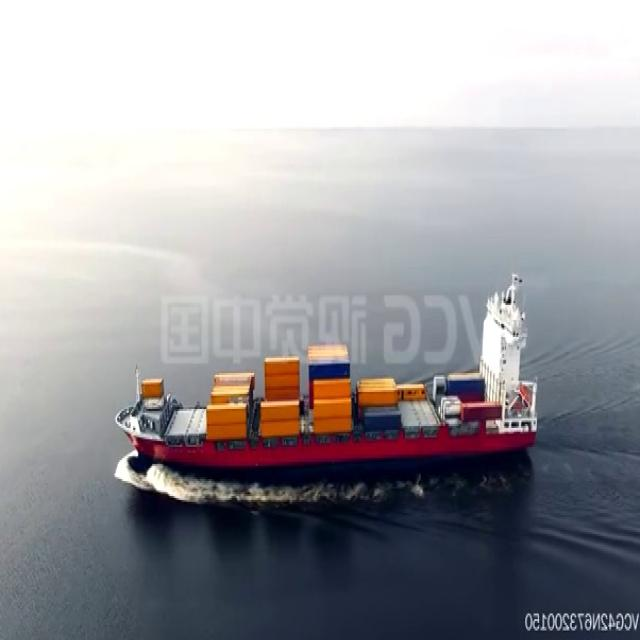cargoship: (117, 267, 539, 477)
